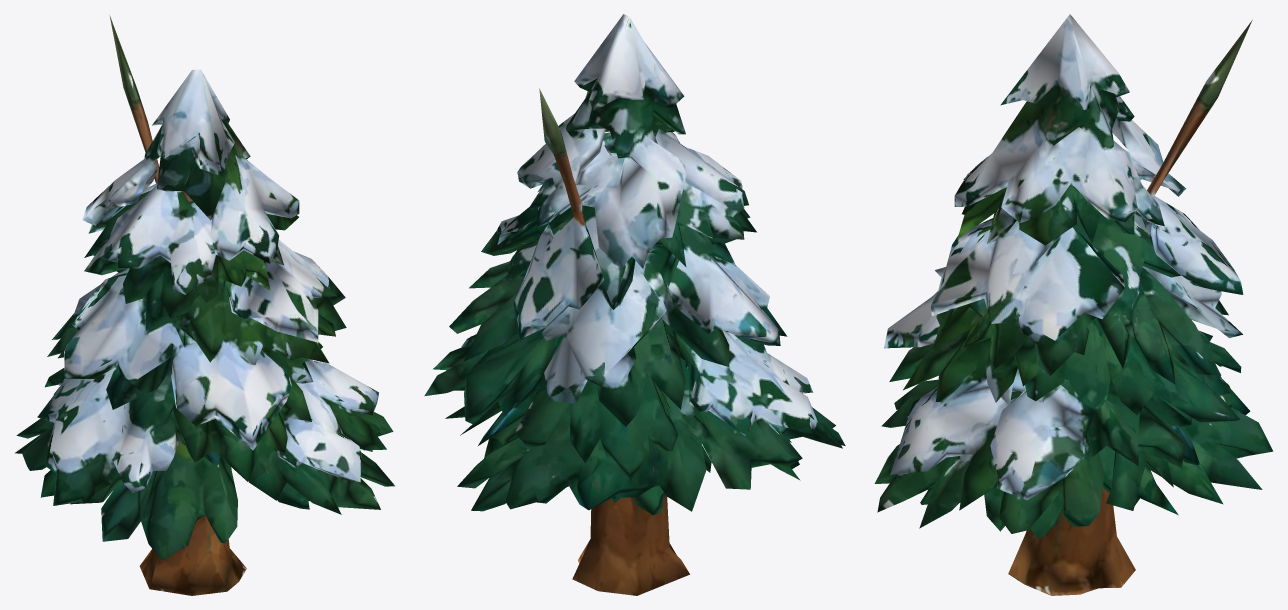
The model's file is tree_snow_pine.glb.
3 views of the same model, side by side, from view 1: azimuth 30°, elevation 25°; view 2: azimuth 150°, elevation 25°; view 3: azimuth 270°, elevation 25° (orthographic). The views are drawn at different scales.
Parts seen in each view (by area): view 1: BakeLow; view 2: BakeLow; view 3: BakeLow.
Part boxes in pixels (x1,y1,x2,y2): BakeLow: (15,15,394,595); BakeLow: (424,14,845,595); BakeLow: (874,14,1273,595).
Bounding box in the file's own units: 0.6273 × 0.8863 × 0.5733.
1 material, 1 textured.
